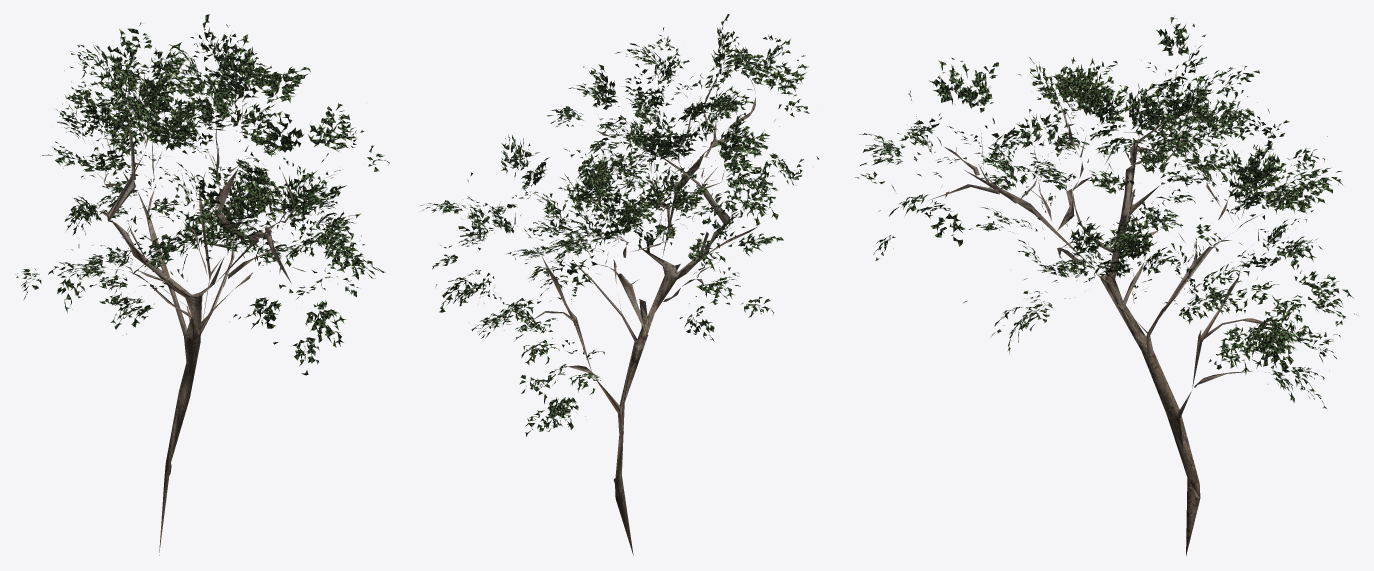
The model's file is tree.glb.
3 views of the same model, side by side, from view 1: azimuth 30°, elevation 25°; view 2: azimuth 150°, elevation 25°; view 3: azimuth 270°, elevation 25° (orthographic). The views are drawn at different scales.
Visible parts, largest first — view 1: tree_small_02_LOD0; view 2: tree_small_02_LOD0; view 3: tree_small_02_LOD0.
Boxes of the visible parts, <box> form: tree_small_02_LOD0: <box>15,14,389,555</box>; tree_small_02_LOD0: <box>420,14,819,555</box>; tree_small_02_LOD0: <box>855,16,1358,555</box>.
Bounding box in the file's own units: 2.87 × 4.53 × 4.14.
3 materials, 3 textured.
